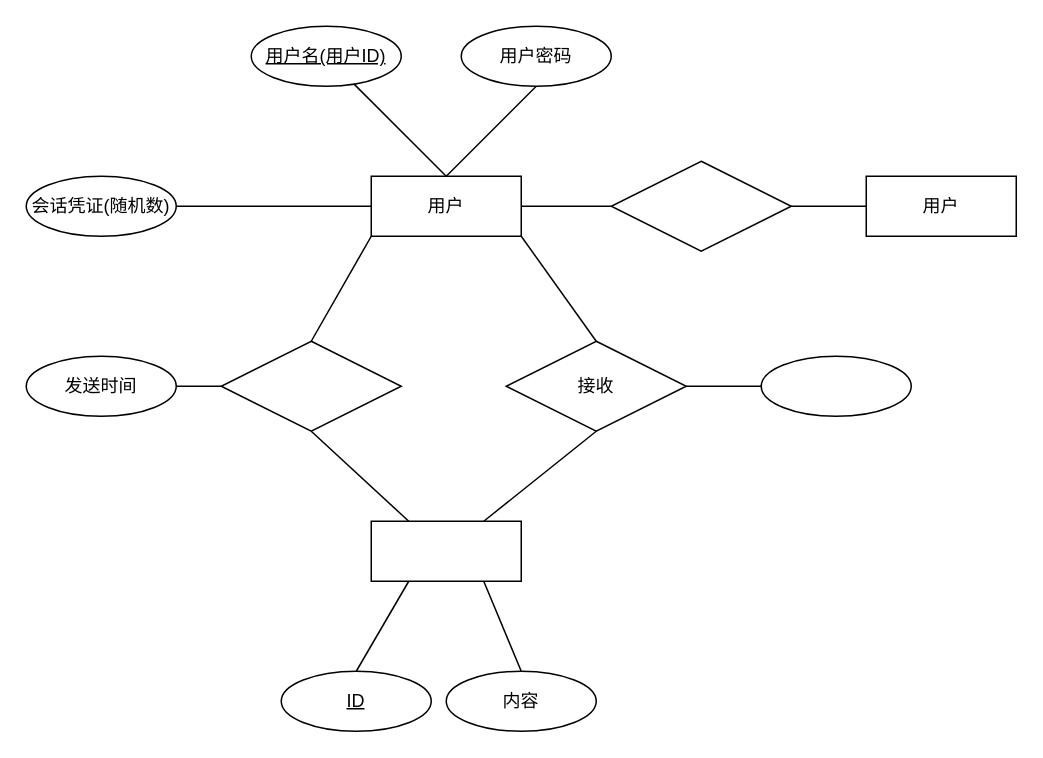
This 1043x758 diagram has some shape labels left out. Each missing label, with the centre of its shape:
"发送" goes at point 310,385.
"接收时间" goes at point 835,385.
"朋友" goes at point 700,205.
"消息" goes at point 445,550.
